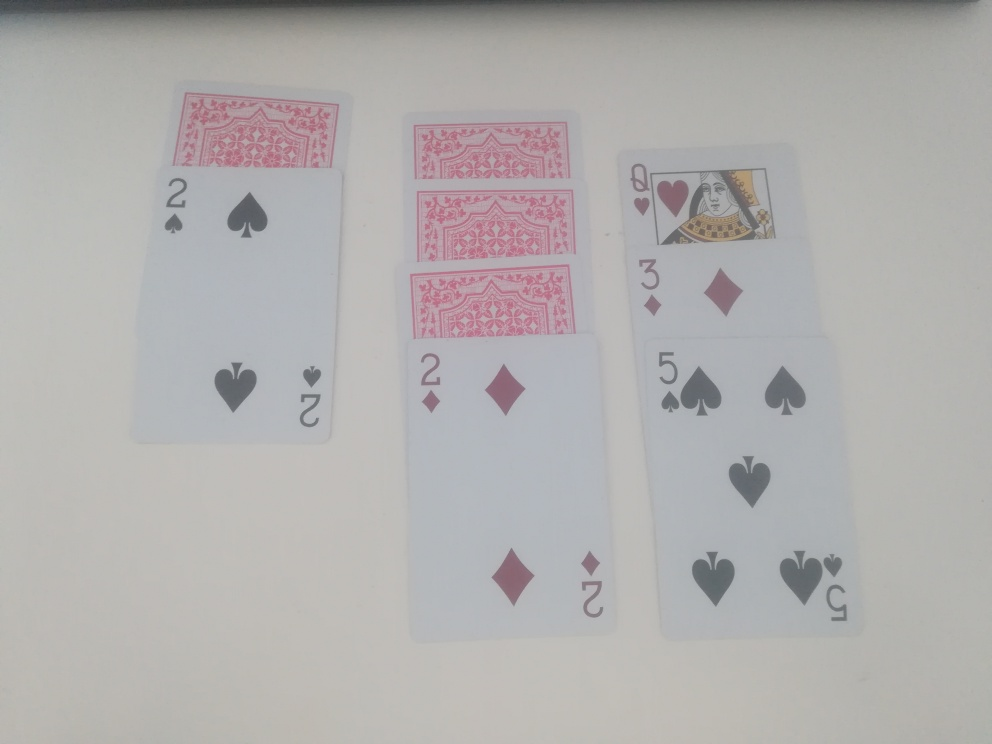2D: (415, 349, 444, 417)
2S: (158, 175, 193, 237)
3D: (634, 254, 668, 330)
5S: (651, 347, 686, 427)
BACK: (178, 90, 342, 172), (407, 265, 582, 339), (416, 190, 579, 259), (410, 121, 572, 184)
QH: (628, 158, 653, 225)
